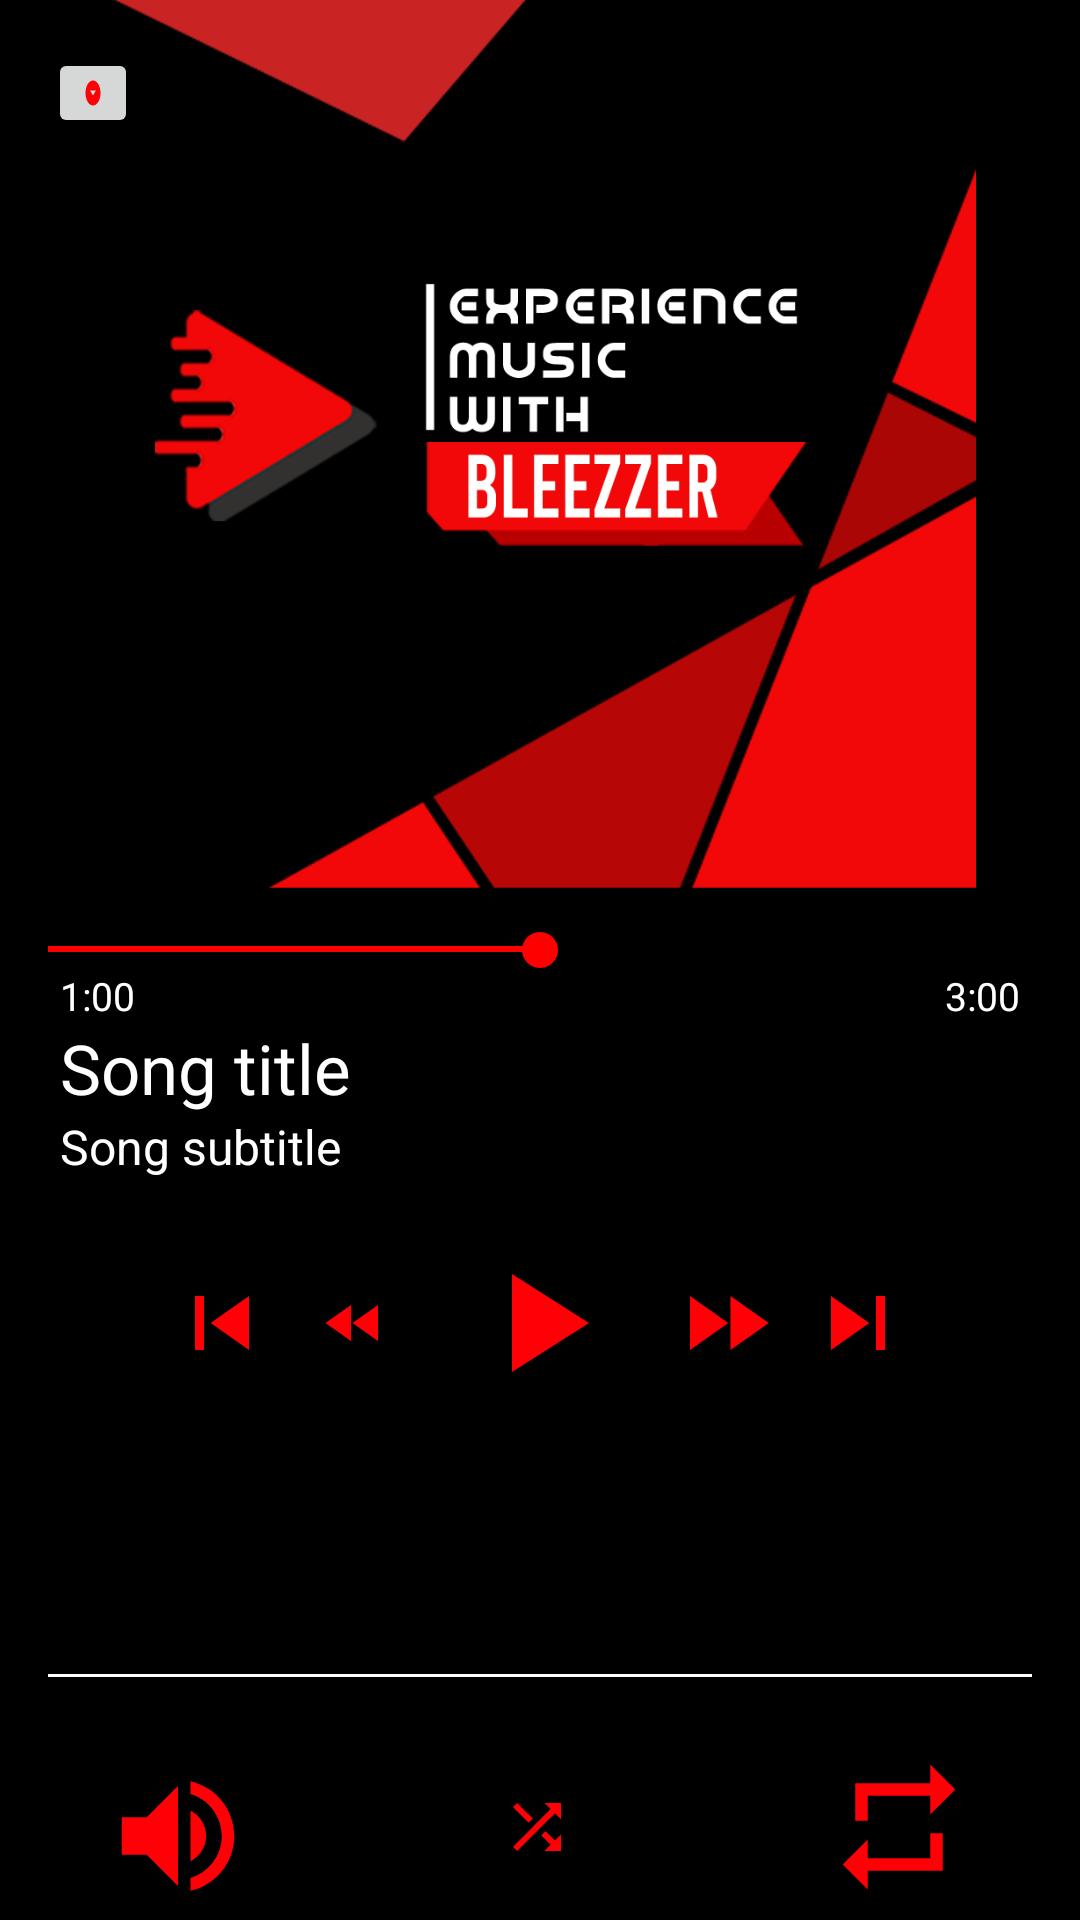

Icon click points for this 1080x1920 phone screenshot, format [x,y]:
button to close the bottom sheet: [93,93]
fast forward: [729,1323]
fast rewind: [352,1323]
play: [550,1323]
repeat: [899,1827]
shuffle: [537,1827]
skip next: [858,1323]
skip previous: [222,1323]
volume up: [178,1836]
